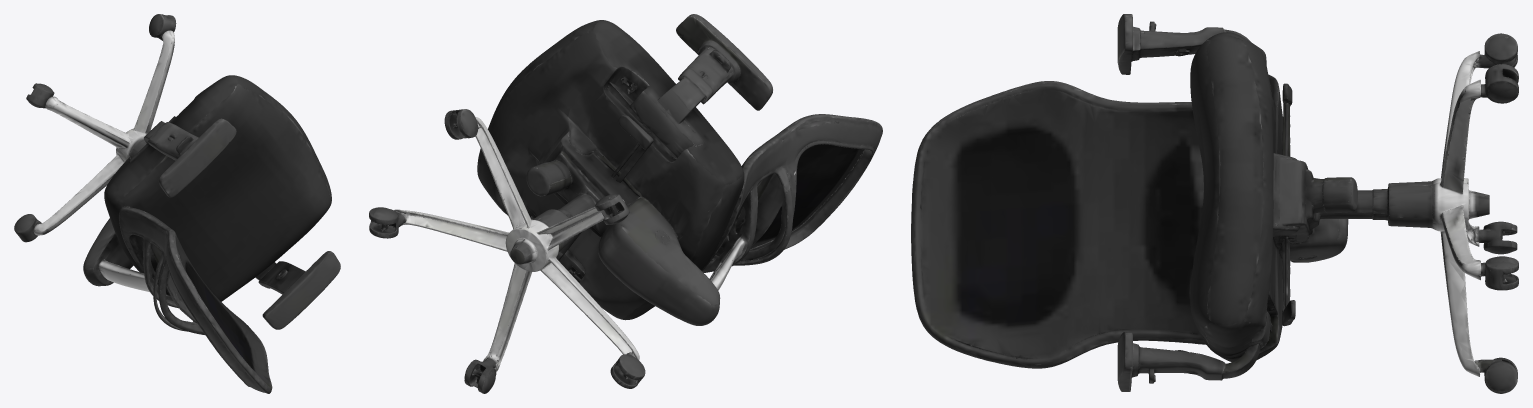
3 views of the same model, side by side, from view 1: azimuth 30°, elevation 25°; view 2: azimuth 150°, elevation 25°; view 3: azimuth 270°, elevation 25° (orthographic). The views are drawn at different scales.
Parts seen in each view (by area): view 1: Samata.001; view 2: Samata.001; view 3: Samata.001.
Boxes of the visible parts, left/top/right/bottom form: Samata.001: left=14, top=14, right=340, bottom=393; Samata.001: left=369, top=14, right=882, bottom=393; Samata.001: left=911, top=14, right=1518, bottom=393.
Size of the model in its own units: 0.0213 by 0.0211 by 0.0323.
1 material, 1 textured.
